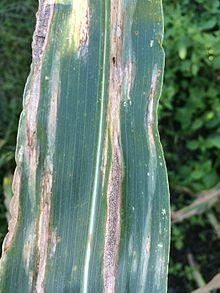Corn_Blight: (106, 2, 137, 291), (33, 3, 60, 293), (5, 113, 30, 258), (144, 50, 170, 170), (142, 213, 181, 280), (68, 2, 97, 60)
